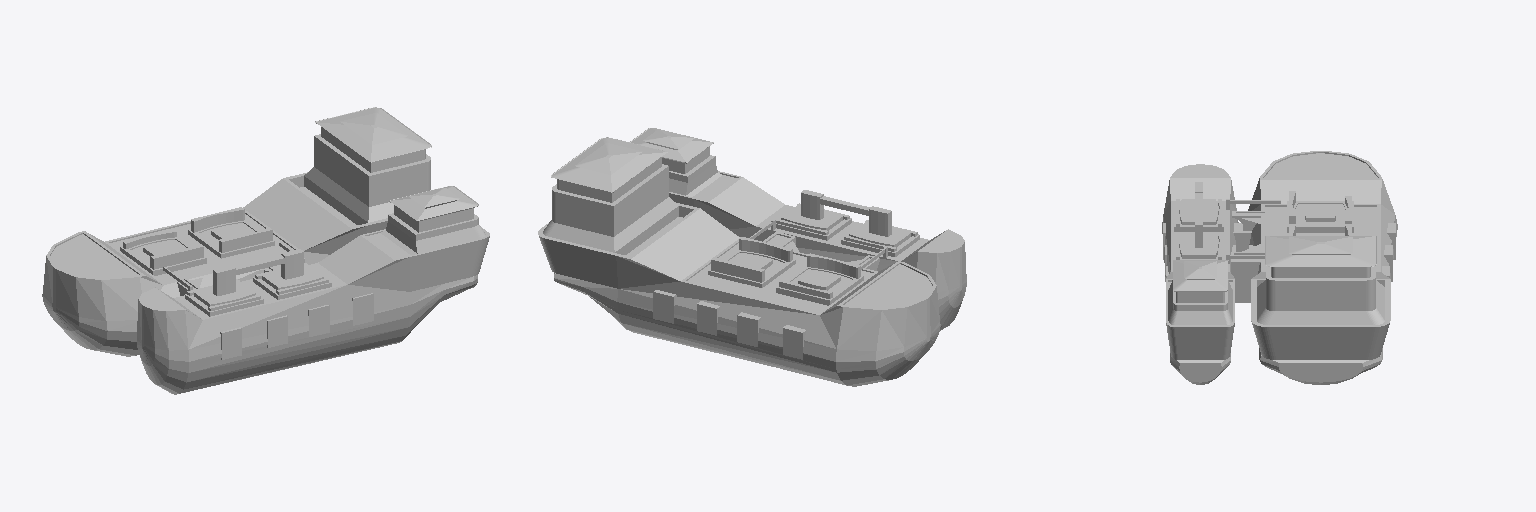
The model's file is Vessel_1.obj.
The picture shows the model from 3 angles: view 1: azimuth 30°, elevation 25°; view 2: azimuth 150°, elevation 25°; view 3: azimuth 270°, elevation 25°; orthographic projection.
Visible parts, largest first — view 1: Mesh1 Model, Mesh2 Model; view 2: Mesh1 Model, Mesh2 Model; view 3: Mesh1 Model.
Part boxes in pixels (x1,y1,x2,y2): Mesh1 Model: (42,107,489,394); Mesh2 Model: (188,207,274,258); Mesh1 Model: (538,128,966,386); Mesh2 Model: (708,237,795,287); Mesh1 Model: (1162,151,1397,384).
Size of the model in its own units: 82.94 by 35.38 by 46.82.